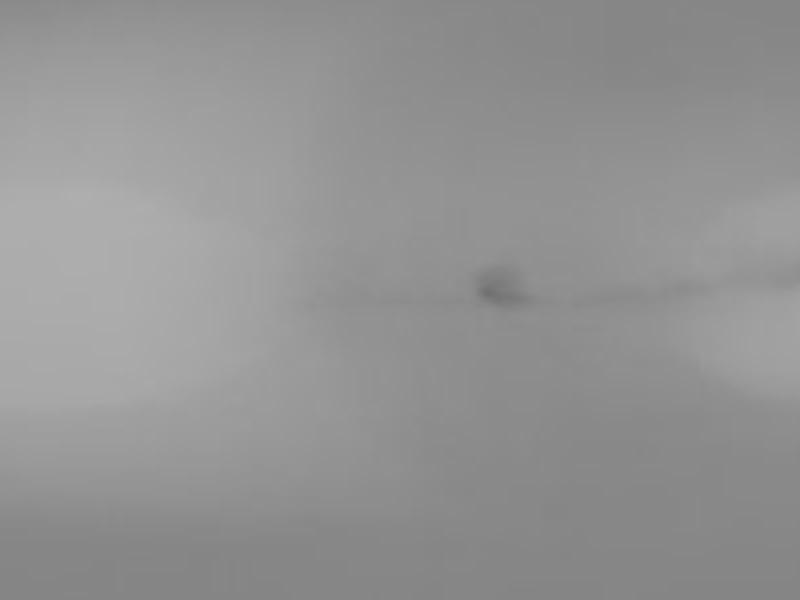defect: (478, 261, 519, 300)
